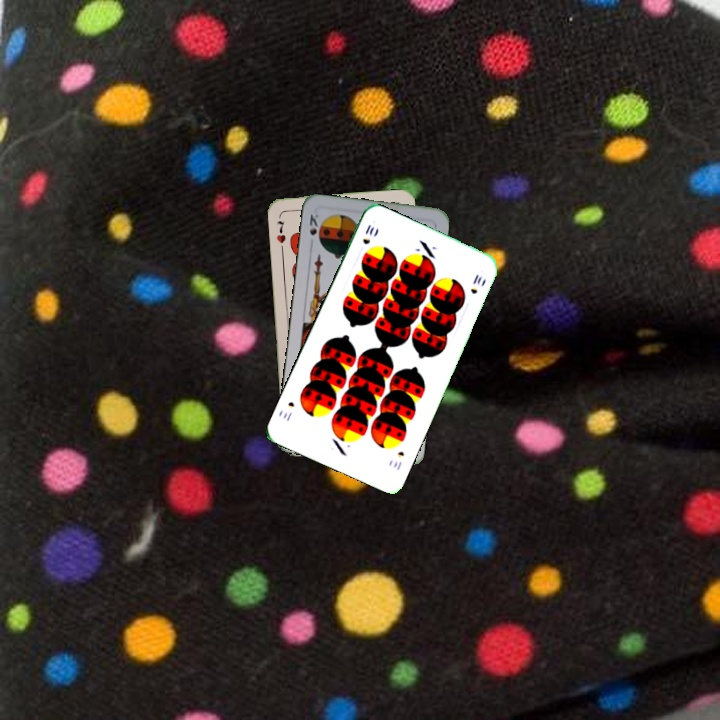H7: (273, 217, 288, 246)
S10: (358, 220, 377, 247), (389, 447, 407, 473)
SK: (305, 210, 321, 249)
